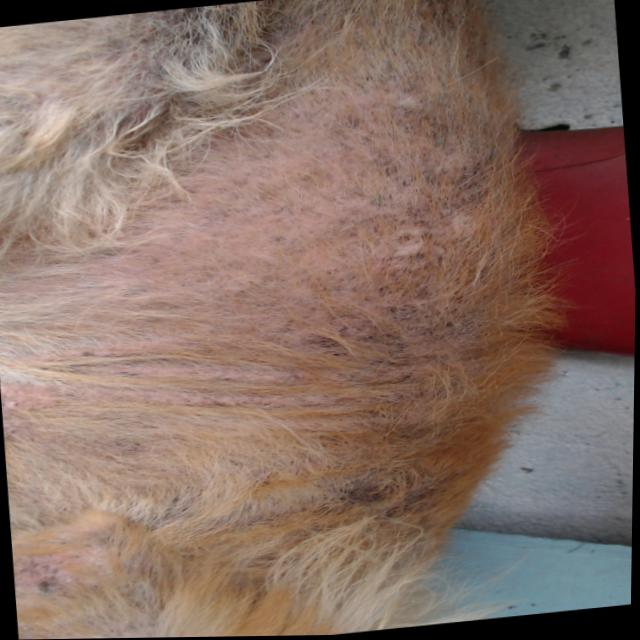demodicosis: (170, 141, 473, 428)
